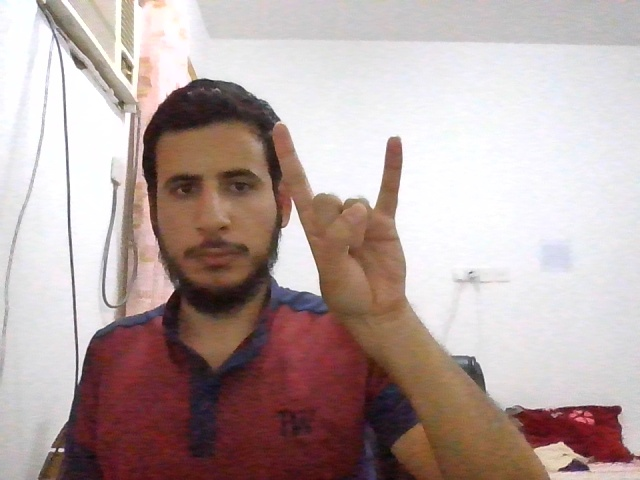Two: (271, 122, 410, 314)
